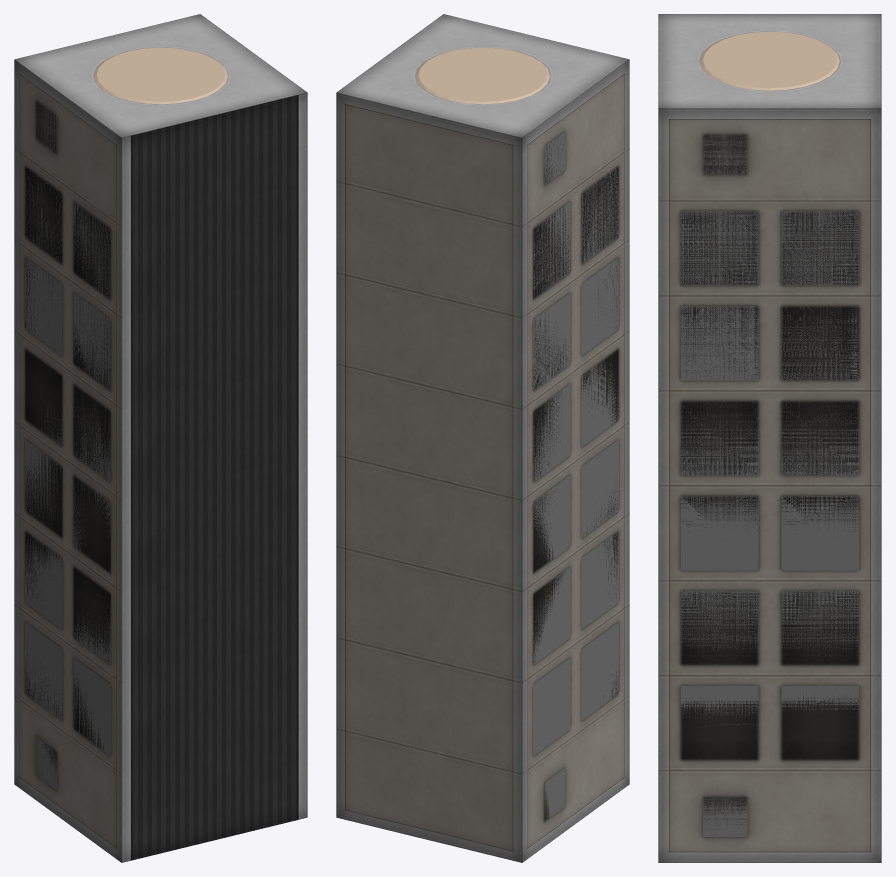
Rendered from rotanev_crew_s2_1_interior.obj.
3 views of the same model, side by side, from view 1: azimuth 30°, elevation 25°; view 2: azimuth 150°, elevation 25°; view 3: azimuth 270°, elevation 25° (orthographic). The views are drawn at different scales.
Parts seen in each view (by area): view 1: i1, im1; view 2: i1, im1; view 3: i1, im1.
Boxes of the visible parts, bbox=[...] form: i1: bbox=[14, 14, 307, 862]; im1: bbox=[94, 47, 227, 104]; i1: bbox=[336, 14, 629, 862]; im1: bbox=[416, 47, 549, 104]; i1: bbox=[658, 14, 881, 862]; im1: bbox=[700, 31, 839, 90].
Bounding box in the file's own units: 1 × 3.74 × 1.
2 materials, 1 textured.
